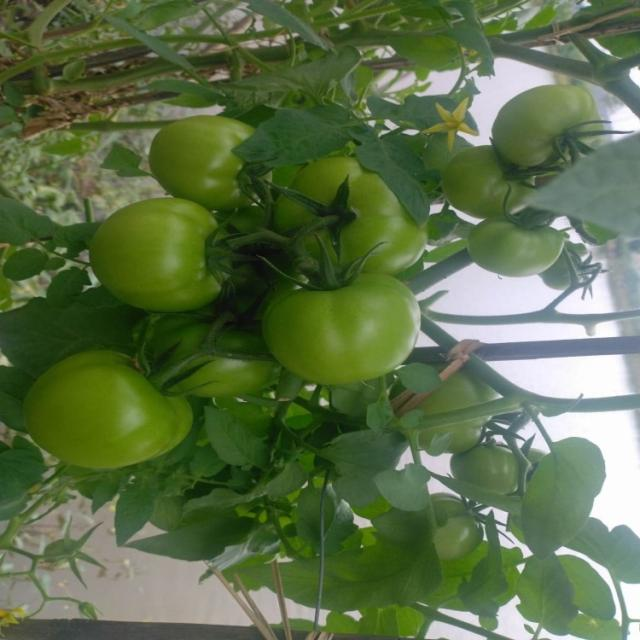tomato: (13, 343, 189, 479), (87, 201, 250, 329), (274, 157, 436, 284), (256, 268, 438, 378), (150, 309, 293, 414), (487, 58, 597, 174), (146, 104, 256, 213), (460, 207, 581, 284), (457, 434, 540, 501), (438, 145, 522, 211)
